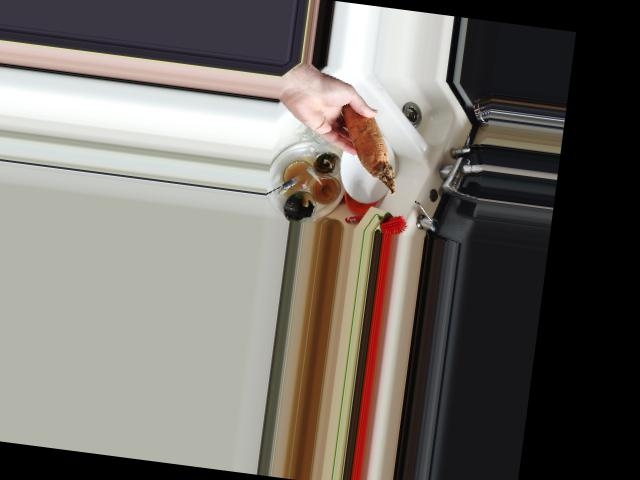sweet_potato: (327, 96, 407, 196)
